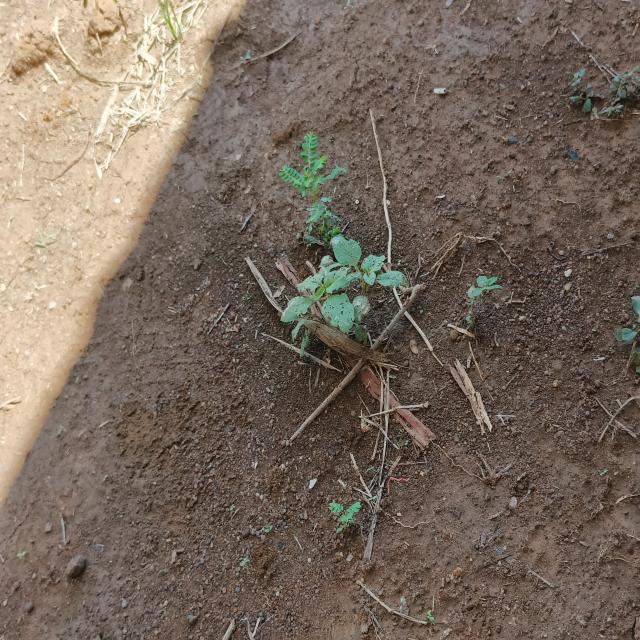weed: (278, 229, 408, 358), (280, 127, 344, 237), (450, 276, 497, 317)
